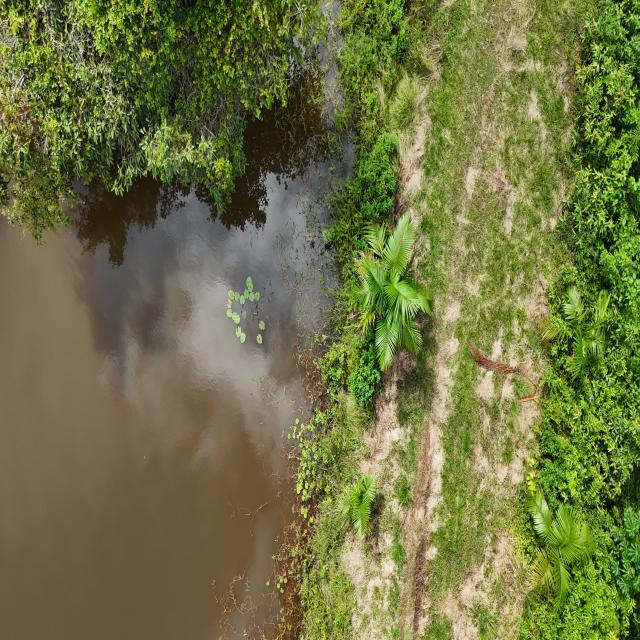vegetation: (0, 0, 330, 247), (348, 209, 432, 372)
